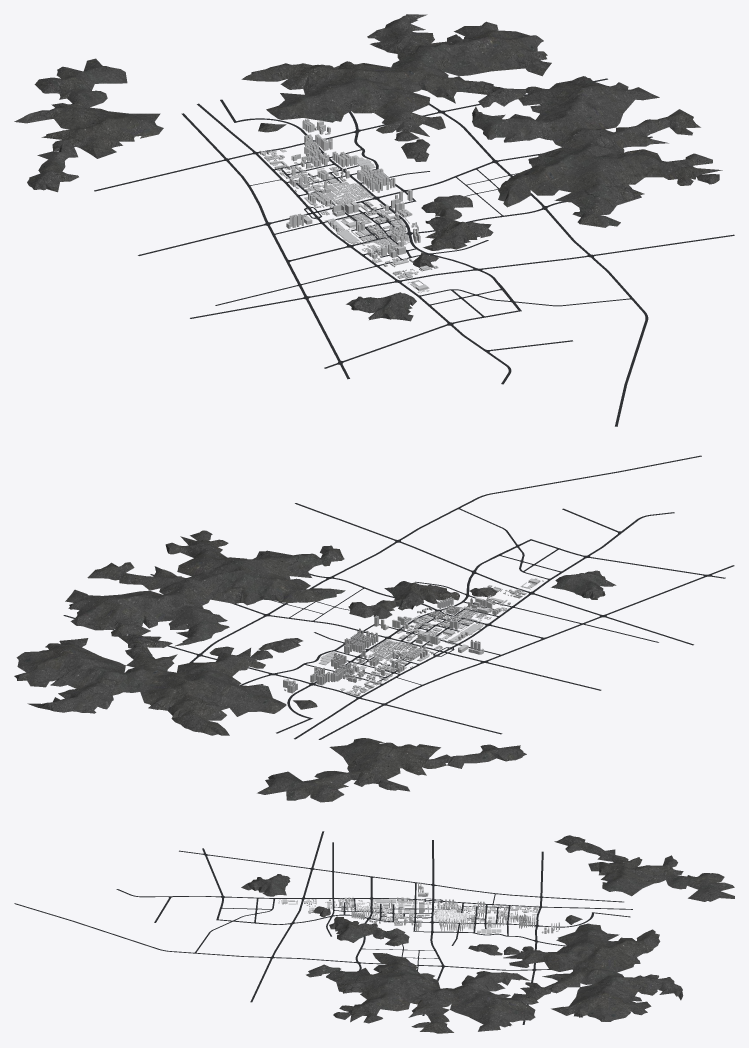
The model's file is louAll.obj.
3 renders of one model, top to bottom at view 1: azimuth 30°, elevation 25°; view 2: azimuth 150°, elevation 25°; view 3: azimuth 270°, elevation 25°, orthographic. The views are drawn at different scales.
Parts seen in each view (by area): view 1: Line09, lu1, jz2, lu2, jz1; view 2: Line09, lu1, jz2, lu2, jz1; view 3: Line09, lu1, jz2, lu2, jz1.
Part boxes in pixels (<box>): Line09: <box>14,14,722,321</box>; lu1: <box>94,78,734,426</box>; jz2: <box>259,134,438,292</box>; lu2: <box>215,149,631,316</box>; jz1: <box>286,119,412,258</box>; Line09: <box>14,530,616,802</box>; lu1: <box>63,455,734,739</box>; jz2: <box>310,578,543,696</box>; lu2: <box>271,508,658,685</box>; jz1: <box>283,597,501,693</box>; Line09: <box>241,835,734,1033</box>; lu1: <box>14,831,632,1024</box>; jz2: <box>278,897,538,933</box>; lu2: <box>195,842,510,970</box>; jz1: <box>339,882,559,933</box>.
Bounding box in the file's own units: 1198485 × 29675 × 1803040.
4 materials, 2 textured.
